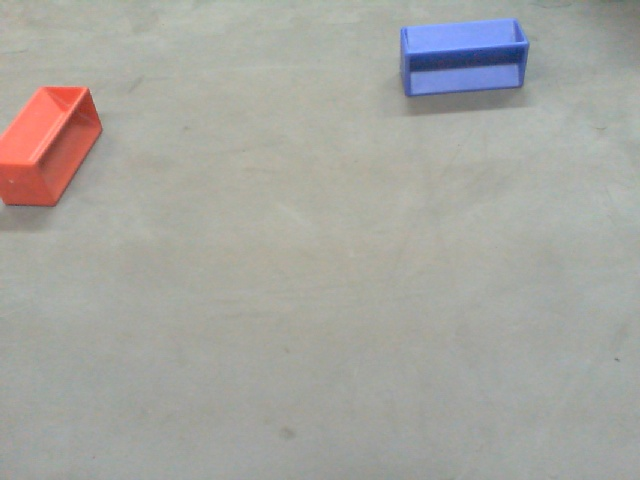BlueSample: (400, 14, 531, 105)
RedSample: (1, 79, 105, 209)
